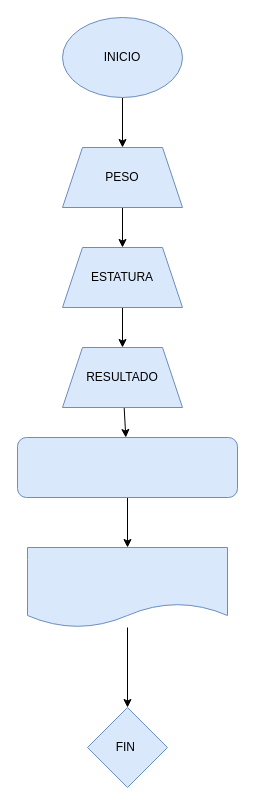
Some shapes in this 255 by 805 pixel diagram are drawn without their labels. The shapes that lost their labels are listed below. From the top down, each one's box as (x1, y1, x2, y2) in pixels, then its label:
(16, 436, 238, 498): IMC=PESO/ESTATURA*ESATURA
(26, 546, 228, 628): RESULTADO (COMPARE SU PESO CON LA TABLA)
